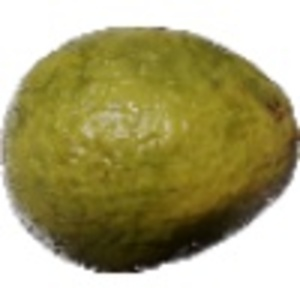goiaba: (3, 20, 295, 270)
